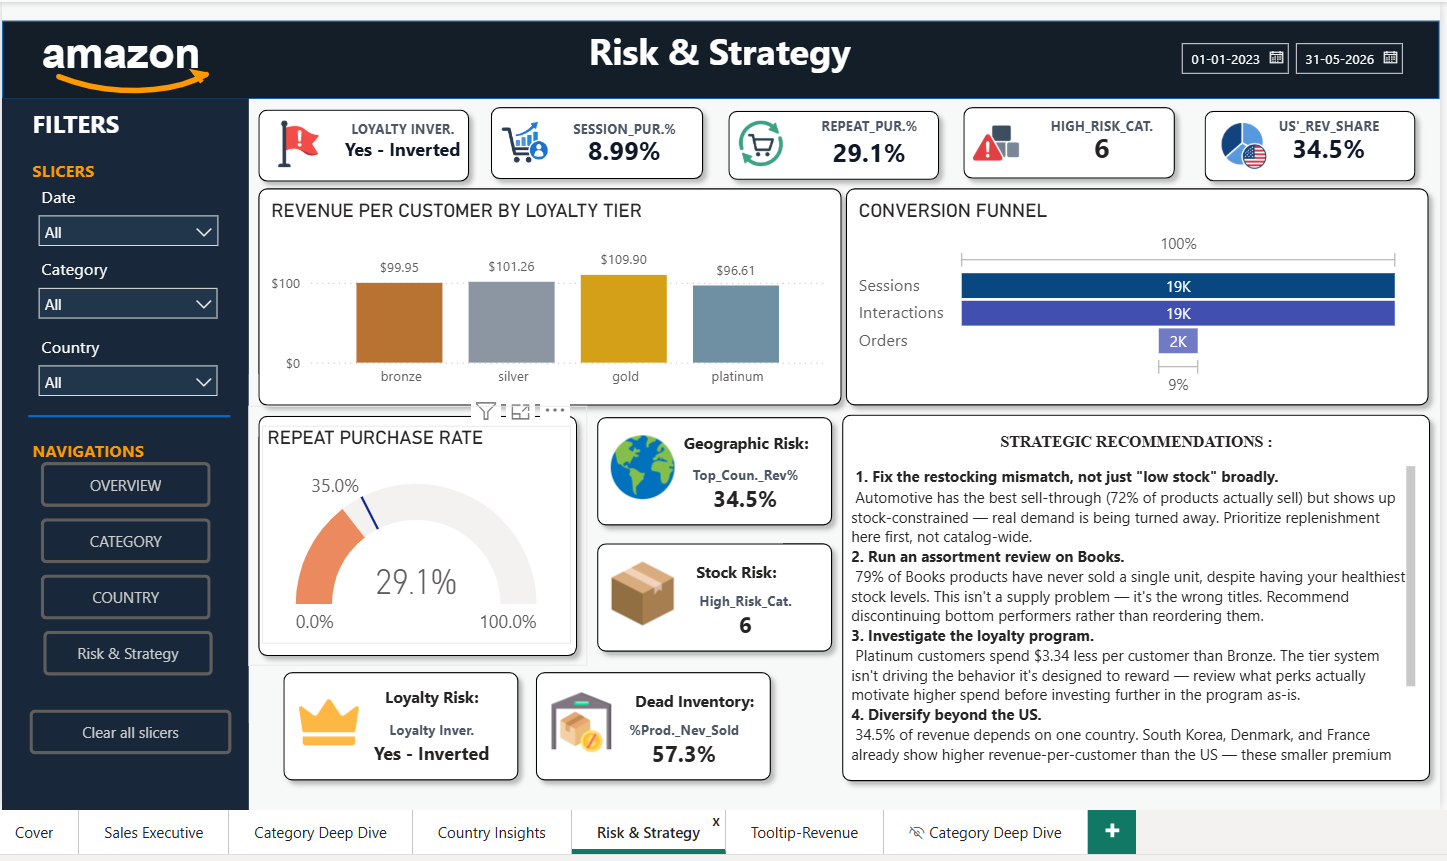

What the dashboard file says about the page in this screenshot:
{"tool":"powerbi","page":{"name":"Risk & Strategy","canvas":[1280,720],"ordinal":4},"visuals":[{"type":"shape","box":[0,16.7,1280.3,69.9],"z":0},{"type":"shape","box":[427,84.9,207,82],"z":0,"group":"g6"},{"type":"shape","box":[847.6,85.3,206.3,81.6],"z":0,"group":"g5"},{"type":"shape","box":[219.8,87.5,205.7,82],"z":0,"group":"g1"},{"type":"group","id":"g1","title":"Group 1","box":[219.8,87.5,205.7,82],"z":0,"group":"g7"},{"type":"shape","box":[638,87.9,205.7,79.4],"z":0,"group":"g4"},{"type":"shape","box":[1062.5,87.9,205.7,80.7],"z":0,"group":"g3"},{"type":"shape","box":[219.4,157.4,537.3,211.4],"z":0,"group":"g8"},{"type":"shape","box":[742.8,157.4,536.9,211.3],"z":0,"group":"g9"},{"type":"shape","box":[738.8,358.2,541.7,344.4],"z":0,"group":"g15"},{"type":"shape","box":[219.4,359.3,301.8,231.9],"z":0,"group":"g2"},{"type":"group","id":"g2","title":"Group 3","box":[219.4,359.3,302,232.1],"z":0,"group":"g10"},{"type":"shape","box":[521.4,360.9,227.3,114.5],"z":0,"group":"g11"},{"type":"shape","box":[520.8,473.6,227.3,114.5],"z":0,"group":"g12"},{"type":"shape","box":[241.7,587.5,227.3,114.5],"z":0,"group":"g13"},{"type":"shape","box":[466.7,587.5,227.3,114.5],"z":0,"group":"g14"},{"type":"textbox","box":[879.6,377,329.2,31.9],"z":500,"group":"g15"},{"type":"shape","box":[0,86.3,219.8,634.4],"z":1000},{"type":"group","id":"g3","title":"Group 2","box":[1062.5,87.9,205.7,80.7],"z":1000,"group":"g7"},{"type":"card","title":"US''_REV_SHARE","fields":{"Values":["_Measure.Top Country Revenue Share"]},"box":[1115.1,102.4,135,45.4],"z":1000,"group":"g3"},{"type":"image","box":[863,103,45,45.8],"z":1000,"group":"g5"},{"type":"image","box":[443.9,103.2,45,45],"z":1000,"group":"g6"},{"type":"image","box":[654,103.2,45,45],"z":1000,"group":"g4"},{"type":"image","box":[241.7,104,45,45.8],"z":1000,"group":"g1"},{"type":"clusteredColumnChart","title":"REVENUE PER CUSTOMER BY LOYALTY TIER","fields":{"Category":["users.loyalty_tier"],"Y":["_Measure.Revenue per Customer"]},"box":[235.3,176.5,505.5,174.9],"z":1000,"group":"g8"},{"type":"funnel","title":"CONVERSION FUNNEL","fields":{"Category":["Funnel Stages.Stage"],"Y":["_Measure.Funnel Value"]},"box":[758.7,176.5,492.4,177.5],"z":1000,"group":"g9"},{"type":"gauge","title":"REPEAT PURCHASE RATE","fields":{"Y":["_Measure.Repeat Purchase Rate"]},"box":[232.1,376.8,275,195.4],"z":1000,"group":"g10"},{"type":"image","box":[542,385.5,56.7,58.9],"z":1000,"group":"g11"},{"type":"textbox","box":[751.6,408,512.5,279.2],"z":1000,"group":"g15"},{"type":"image","box":[541.4,498.2,56.7,58.9],"z":1000,"group":"g12"},{"type":"image","box":[262.3,612.1,56.7,58.9],"z":1000,"group":"g13"},{"type":"image","box":[487.3,612.1,56.7,58.9],"z":1000,"group":"g14"},{"type":"image","box":[0,16.7,270.6,69.9],"z":2000},{"type":"group","id":"g4","title":"Group 2","box":[638,87.9,205.7,79.4],"z":2000,"group":"g7"},{"type":"card","title":"REPEAT_PUR.%","fields":{"Values":["_Measure.Repeat Purchase Rate"]},"box":[718.5,102.4,109.1,51.9],"z":2000,"group":"g4"},{"type":"card","title":"HIGH_RISK_CAT.","fields":{"Values":["_Measure.High Risk Categories Count"]},"box":[919.6,103.4,120,43.3],"z":2000,"group":"g5"},{"type":"card","title":"SESSION_PUR.%","fields":{"Values":["_Measure.Session to Purchase Rate"]},"box":[494.6,104.8,120.4,43.5],"z":2000,"group":"g6"},{"type":"card","title":"LOYALTY INVER.","fields":{"Values":["_Measure.Loyalty Inversion Flag"]},"box":[298.1,105.3,119.7,43.5],"z":2000,"group":"g1"},{"type":"image","box":[1084,105.6,45,45],"z":2000,"group":"g3"},{"type":"card","title":"Top_Coun._Rev%","fields":{"Values":["_Measure.Top Country Revenue Share"]},"box":[602,413.3,122.2,42.2],"z":2000,"group":"g11"},{"type":"card","title":"High_Risk_Cat.","fields":{"Values":["_Measure.High Risk Categories Count"]},"box":[601.4,526,122.2,42.2],"z":2000,"group":"g12"},{"type":"card","title":"Loyalty Inver.","fields":{"Values":["_Measure.Loyalty Inversion Flag"]},"box":[322.3,639.9,122.2,42.2],"z":2000,"group":"g13"},{"type":"card","title":"%Prod._Nev_Sold","fields":{"Values":["_Measure.% Products Never Sold"]},"box":[547.3,639.9,122.2,42.2],"z":2000,"group":"g14"},{"type":"group","id":"g5","title":"Group 2","box":[847.6,85.3,206.3,81.6],"z":3000,"group":"g7"},{"type":"textbox","box":[22.3,89.4,179.9,327],"z":3000},{"type":"textbox","box":[612.7,493.6,122.2,32.2],"z":3000,"group":"g12"},{"type":"textbox","box":[336.8,604.4,105.6,31.9],"z":3000,"group":"g13"},{"type":"textbox","box":[558.6,607.5,122.2,32.2],"z":3000,"group":"g14"},{"type":"textbox","box":[350.9,16.7,577,70],"z":4000},{"type":"group","id":"g6","title":"Group 2","box":[427,84.9,207,82],"z":4000,"group":"g7"},{"type":"slicer","title":"DATE","fields":{"Values":["Calendar.Date"]},"box":[22.3,157.8,180,65],"z":5000},{"type":"slicer","fields":{"Values":["Calendar.Date"]},"box":[1027.5,16.7,252.8,69.9],"z":6000},{"type":"slicer","fields":{"Values":["products.category"]},"box":[22.3,223.2,179.9,69.9],"z":7000},{"type":"slicer","fields":{"Values":["users.country"]},"box":[22.3,291.6,179.9,66.9],"z":8000},{"type":"shape","box":[23.8,358.5,179.9,20.8],"z":9000},{"type":"actionButton","box":[24,630,180,40],"z":10000},{"type":"group","id":"g7","title":"Group 5","box":[219.8,84.9,1048.4,84.6],"z":11000},{"type":"group","id":"g8","title":"Revenue Per Customer","box":[219.4,157.4,537.3,211.4],"z":14000},{"type":"group","id":"g9","title":"Group 3","box":[742.8,157.4,536.9,211.3],"z":15000},{"type":"group","id":"g10","title":"Group 4","box":[219.4,359.3,302,232.1],"z":16000},{"type":"group","id":"g11","title":"Geo Risk","box":[521.4,360.9,227.3,114.5],"z":17000},{"type":"textbox","box":[602.2,378.9,122.2,32.2],"z":18000},{"type":"group","id":"g12","title":"Stock Risk","box":[520.8,473.6,227.3,114.5],"z":19000},{"type":"group","id":"g13","title":"Loyalty risk","box":[241.7,587.5,227.8,113.9],"z":20000},{"type":"group","id":"g14","title":"Stock Risk","box":[466.7,587.5,227.8,115.3],"z":21000},{"type":"group","id":"g15","title":"Recommendations","box":[738.8,358.2,541.7,344.4],"z":22000},{"type":"actionButton","title":"OVERVIEW","box":[34.7,410,151.4,40],"z":23000},{"type":"actionButton","title":"Category","box":[34.7,460,151.4,40.3],"z":24000},{"type":"actionButton","title":"Country","box":[34,510,151.4,40.3],"z":25000},{"type":"actionButton","title":"OVERVIEW","box":[36.6,560,151,40],"z":26000}]}

Visuals, with their boxes on the page's 1280x720 design canvas (x1, y1, x2, y2). These are canvas units, not pixel positions in the 1447x861 screenshot, which may show the page scaled, cropped or inside an application window:
shape: (left=0, top=17, right=1280, bottom=87)
shape: (left=427, top=85, right=634, bottom=167)
shape: (left=848, top=85, right=1054, bottom=167)
shape: (left=220, top=88, right=426, bottom=170)
"Group 1" group: (left=220, top=88, right=426, bottom=170)
shape: (left=638, top=88, right=844, bottom=167)
shape: (left=1062, top=88, right=1268, bottom=169)
shape: (left=219, top=157, right=757, bottom=369)
shape: (left=743, top=157, right=1280, bottom=369)
shape: (left=739, top=358, right=1280, bottom=703)
shape: (left=219, top=359, right=521, bottom=591)
"Group 3" group: (left=219, top=359, right=521, bottom=591)
shape: (left=521, top=361, right=749, bottom=475)
shape: (left=521, top=474, right=748, bottom=588)
shape: (left=242, top=588, right=469, bottom=702)
shape: (left=467, top=588, right=694, bottom=702)
textbox: (left=880, top=377, right=1209, bottom=409)
shape: (left=0, top=86, right=220, bottom=721)
"Group 2" group: (left=1062, top=88, right=1268, bottom=169)
"US''_REV_SHARE" card: (left=1115, top=102, right=1250, bottom=148)
image: (left=863, top=103, right=908, bottom=149)
image: (left=444, top=103, right=489, bottom=148)
image: (left=654, top=103, right=699, bottom=148)
image: (left=242, top=104, right=287, bottom=150)
"REVENUE PER CUSTOMER BY LOYALTY TIER" clusteredColumnChart: (left=235, top=176, right=741, bottom=351)
"CONVERSION FUNNEL" funnel: (left=759, top=176, right=1251, bottom=354)
"REPEAT PURCHASE RATE" gauge: (left=232, top=377, right=507, bottom=572)
image: (left=542, top=386, right=599, bottom=444)
textbox: (left=752, top=408, right=1264, bottom=687)
image: (left=541, top=498, right=598, bottom=557)
image: (left=262, top=612, right=319, bottom=671)
image: (left=487, top=612, right=544, bottom=671)
image: (left=0, top=17, right=271, bottom=87)
"Group 2" group: (left=638, top=88, right=844, bottom=167)
"REPEAT_PUR.%" card: (left=718, top=102, right=828, bottom=154)
"HIGH_RISK_CAT." card: (left=920, top=103, right=1040, bottom=147)
"SESSION_PUR.%" card: (left=495, top=105, right=615, bottom=148)
"LOYALTY INVER." card: (left=298, top=105, right=418, bottom=149)
image: (left=1084, top=106, right=1129, bottom=151)
"Top_Coun._Rev%" card: (left=602, top=413, right=724, bottom=456)
"High_Risk_Cat." card: (left=601, top=526, right=724, bottom=568)
"Loyalty Inver." card: (left=322, top=640, right=444, bottom=682)
"%Prod._Nev_Sold" card: (left=547, top=640, right=670, bottom=682)
"Group 2" group: (left=848, top=85, right=1054, bottom=167)
textbox: (left=22, top=89, right=202, bottom=416)
textbox: (left=613, top=494, right=735, bottom=526)
textbox: (left=337, top=604, right=442, bottom=636)
textbox: (left=559, top=608, right=681, bottom=640)
textbox: (left=351, top=17, right=928, bottom=87)
"Group 2" group: (left=427, top=85, right=634, bottom=167)
"DATE" slicer: (left=22, top=158, right=202, bottom=223)
slicer - Calendar.Date: (left=1028, top=17, right=1280, bottom=87)
slicer - products.category: (left=22, top=223, right=202, bottom=293)
slicer - users.country: (left=22, top=292, right=202, bottom=358)
shape: (left=24, top=358, right=204, bottom=379)
actionButton: (left=24, top=630, right=204, bottom=670)
"Group 5" group: (left=220, top=85, right=1268, bottom=170)
"Revenue Per Customer" group: (left=219, top=157, right=757, bottom=369)
"Group 3" group: (left=743, top=157, right=1280, bottom=369)
"Group 4" group: (left=219, top=359, right=521, bottom=591)
"Geo Risk" group: (left=521, top=361, right=749, bottom=475)
textbox: (left=602, top=379, right=724, bottom=411)
"Stock Risk" group: (left=521, top=474, right=748, bottom=588)
"Loyalty risk" group: (left=242, top=588, right=470, bottom=701)
"Stock Risk" group: (left=467, top=588, right=694, bottom=703)
"Recommendations" group: (left=739, top=358, right=1280, bottom=703)
"OVERVIEW" actionButton: (left=35, top=410, right=186, bottom=450)
"Category" actionButton: (left=35, top=460, right=186, bottom=500)
"Country" actionButton: (left=34, top=510, right=185, bottom=550)
"OVERVIEW" actionButton: (left=37, top=560, right=188, bottom=600)
